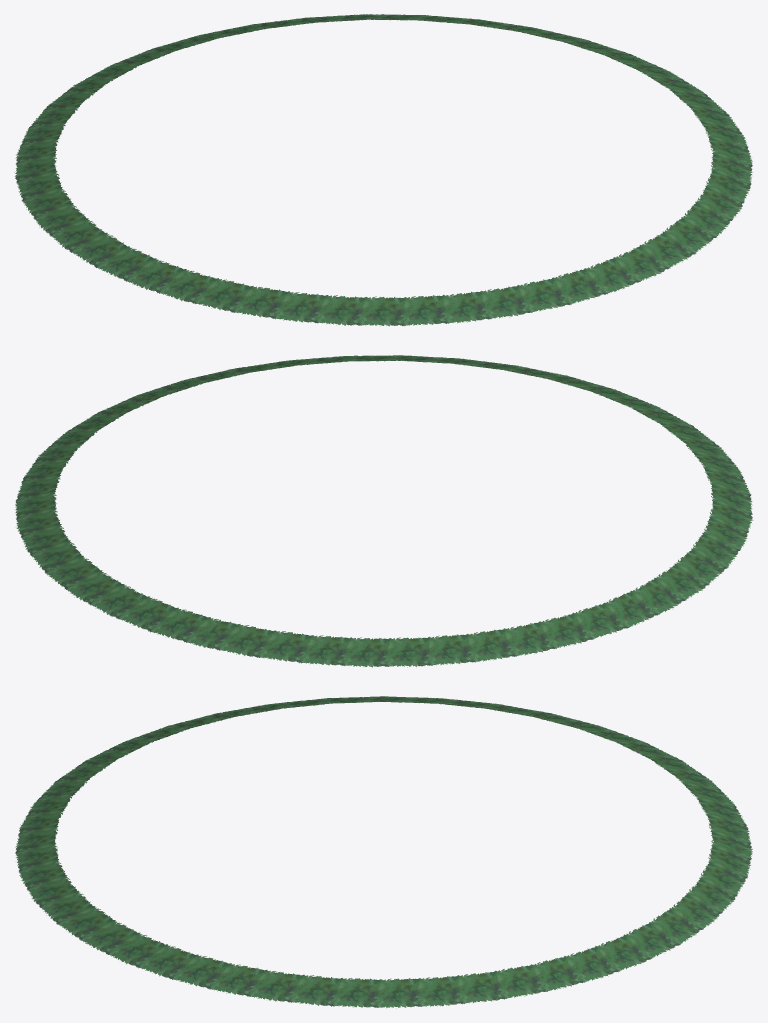
Rendered from grass_mesh_07.fbx.
3 renders of one model, top to bottom at view 1: azimuth 30°, elevation 25°; view 2: azimuth 150°, elevation 25°; view 3: azimuth 270°, elevation 25°, orthographic.
Visible parts, largest first — view 1: grass_mesh_07; view 2: grass_mesh_07; view 3: grass_mesh_07.
Boxes of the visible parts, x1,y1,x2,y2 form: grass_mesh_07: (14, 14, 752, 326); grass_mesh_07: (15, 355, 753, 667); grass_mesh_07: (15, 696, 752, 1008).
Size of the model in its own units: 140 by 2.56 by 140.
